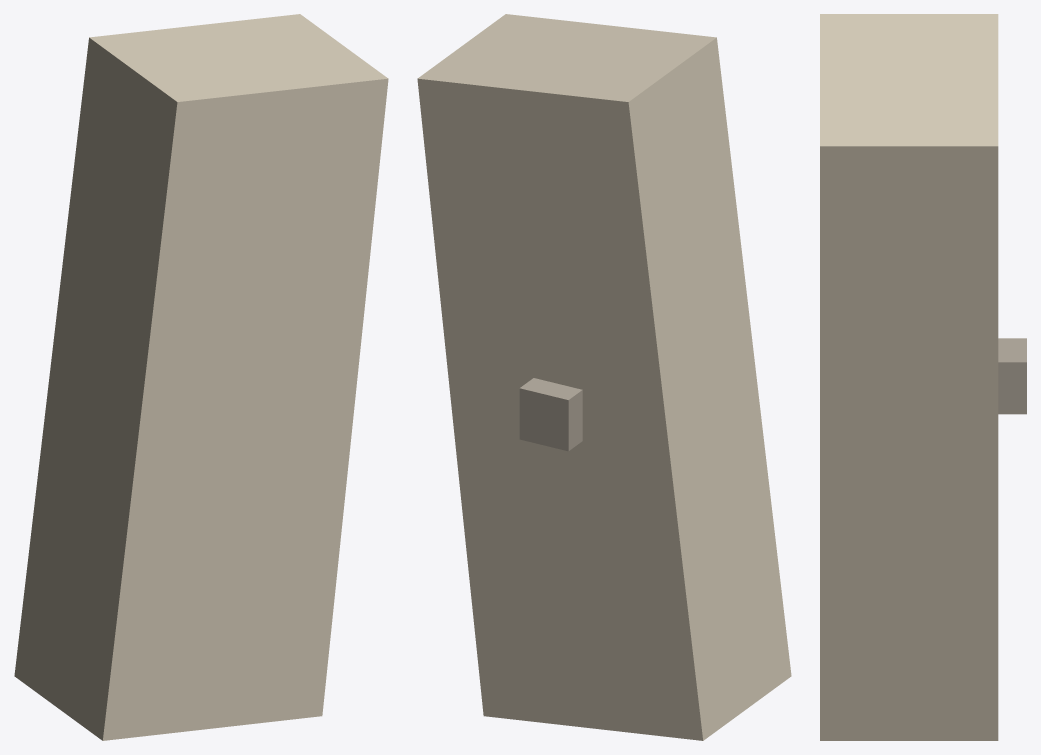
Rendered from zarqa_3616_3210.glb.
3 renders of one model, left to right at view 1: azimuth 30°, elevation 25°; view 2: azimuth 150°, elevation 25°; view 3: azimuth 270°, elevation 25°, orthographic.
Parts seen in each view (by area): view 1: Building_; view 2: Building_, Roof access hut; view 3: Building_, Roof access hut.
Part boxes in pixels (box(x1,y1,x2,y2)): Building_: box(14, 14, 388, 740); Building_: box(417, 14, 791, 740); Roof access hut: box(519, 378, 582, 451); Building_: box(820, 14, 998, 740); Roof access hut: box(998, 338, 1026, 414).
Size of the model in its own units: 14.01 by 30.41 by 8.7.
